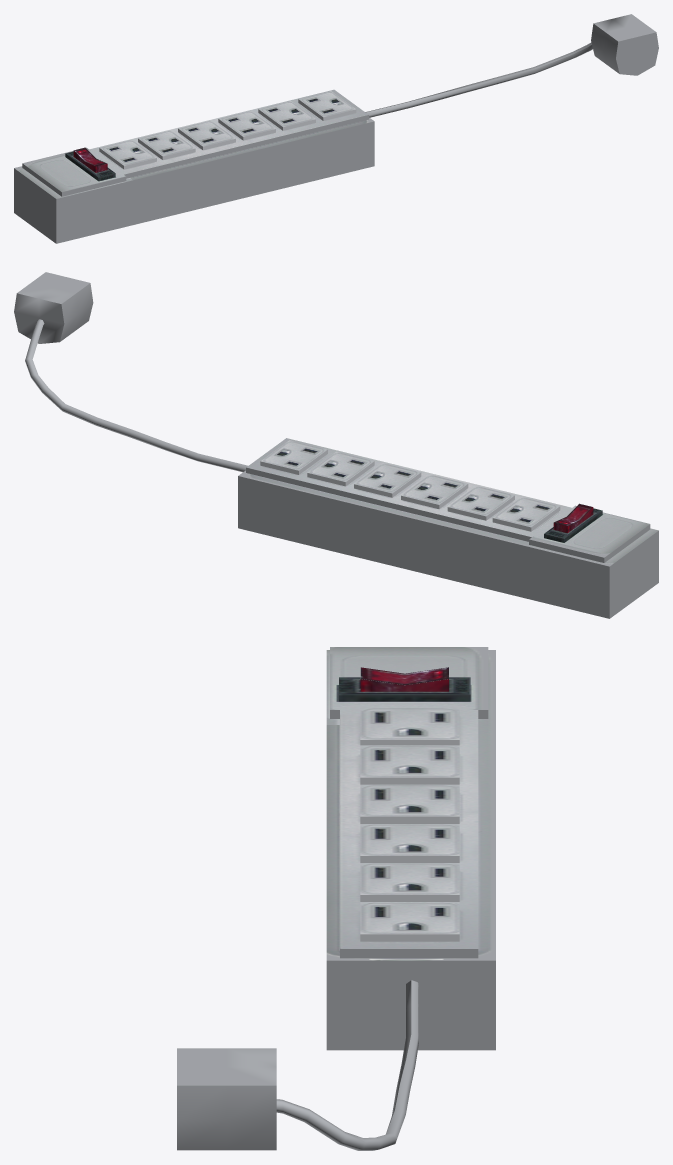
The model's file is powerstrip_r.fbx.
The picture shows the model from 3 angles, top to bottom: view 1: azimuth 30°, elevation 25°; view 2: azimuth 150°, elevation 25°; view 3: azimuth 270°, elevation 25°; orthographic projection. The views are drawn at different scales.
Visible parts, largest first — view 1: body, sockets, Box02, cord, light, lightbase; view 2: body, sockets, Box02, cord, light, lightbase; view 3: body, sockets, Box02, cord, lightbase, light.
Part boxes in pixels (box(x1,y1,x2,y2)): body: box(14, 89, 374, 243); sockets: box(99, 91, 356, 169); Box02: box(591, 14, 658, 75); cord: box(365, 42, 592, 117); light: box(73, 147, 107, 172); lightbase: box(65, 151, 115, 180); body: box(238, 438, 658, 618); sockets: box(260, 440, 560, 531); Box02: box(14, 272, 93, 343); cord: box(25, 319, 248, 472); light: box(553, 503, 593, 532); lightbase: box(544, 508, 602, 542); body: box(326, 647, 495, 1050); sockets: box(360, 707, 459, 941); Box02: box(177, 1048, 276, 1150); cord: box(276, 980, 418, 1150); lightbase: box(339, 677, 470, 701); light: box(360, 667, 448, 691).
Size of the model in its own units: 2.31 by 0.3965 by 0.5634.
